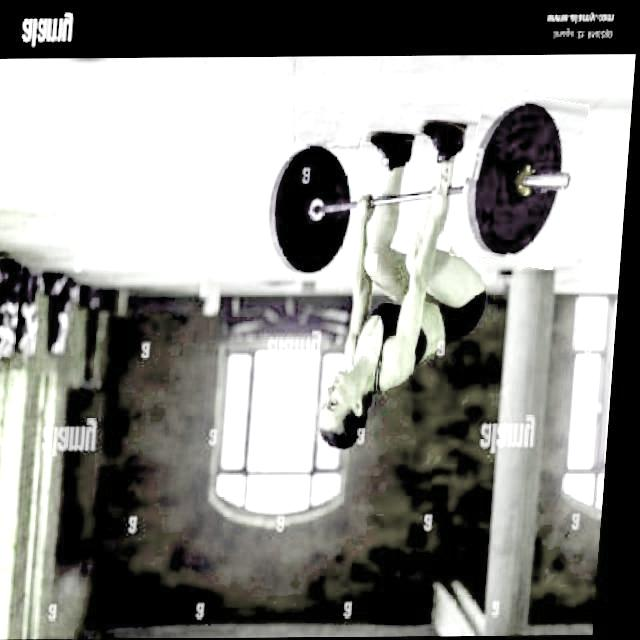barbell: (459, 95, 587, 268)
